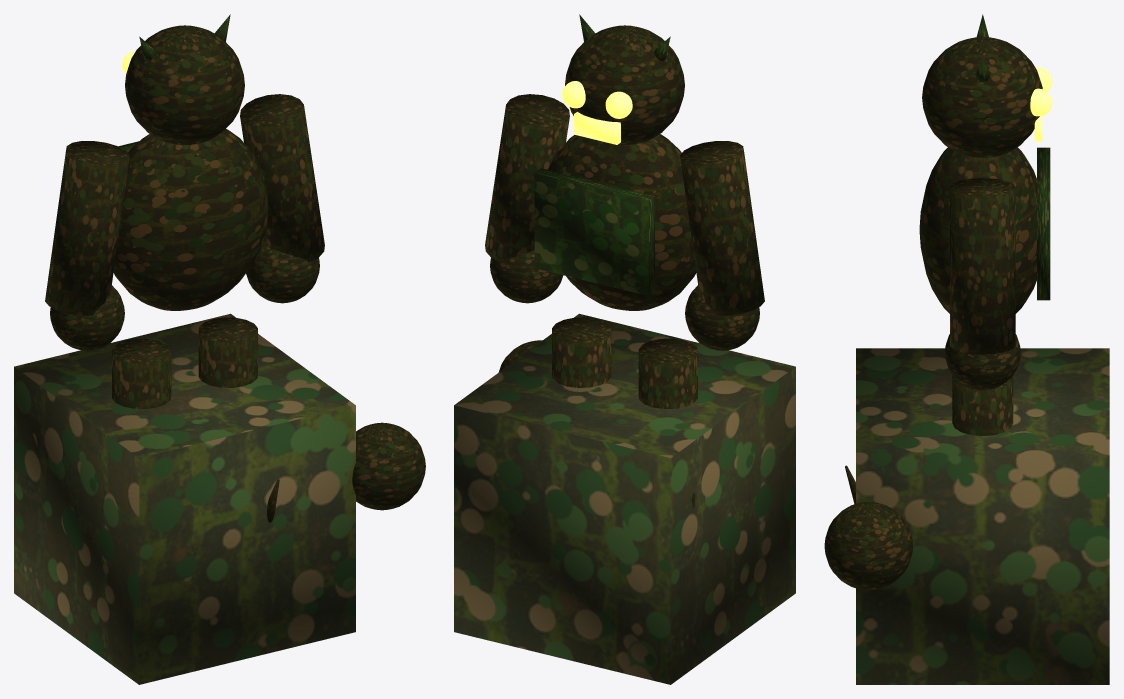
File: humbaba.glb
The picture shows the model from 3 angles, left to right: view 1: azimuth 30°, elevation 25°; view 2: azimuth 150°, elevation 25°; view 3: azimuth 270°, elevation 25°; orthographic projection.
Parts seen in each view (by area): view 1: Cube, Torso, Head, TrunkArmL, TrunkArmR, Boulder, TrunkLegR, TrunkLegL, FistBoulderR, FistBoulderL; view 2: Cube, ChestBark, Torso, TrunkArmL, Head, TrunkArmR, TrunkLegR, TrunkLegL, FistBoulderL, FistBoulderR, RoarMouth, TerrorEye (+1 smaller); view 3: Cube, TrunkArmR, Head, Torso, Boulder, TrunkLegR, FistBoulderR, ChestBark, TerrorEye.001.
Part boxes in pixels (box(x1,y1,x2,y2)): Cube: box(14, 313, 355, 684); Torso: box(113, 129, 268, 310); Head: box(125, 25, 244, 144); TrunkArmL: box(45, 141, 129, 315); TrunkArmR: box(240, 94, 324, 262); Boulder: box(352, 422, 425, 510); TrunkLegR: box(198, 317, 257, 387); TrunkLegL: box(112, 338, 171, 408); FistBoulderR: box(246, 244, 319, 303); FistBoulderL: box(50, 285, 124, 350); Cube: box(454, 313, 795, 684); ChestBark: box(534, 168, 654, 295); Torso: box(548, 134, 696, 310); TrunkArmL: box(680, 141, 764, 315); Head: box(565, 25, 684, 144); TrunkArmR: box(485, 94, 569, 262); TrunkLegR: box(552, 317, 611, 387); TrunkLegL: box(638, 338, 697, 408); FistBoulderL: box(685, 285, 759, 350); FistBoulderR: box(490, 250, 563, 303); RoarMouth: box(574, 112, 620, 144); TerrorEye: box(605, 91, 632, 118); Cube: box(856, 348, 1109, 684); TrunkArmR: box(950, 178, 1015, 354); Head: box(922, 37, 1042, 157); Torso: box(919, 147, 1036, 313); Boulder: box(824, 501, 912, 590); TrunkLegR: box(952, 376, 1013, 435); FistBoulderR: box(945, 334, 1020, 390); ChestBark: box(1037, 147, 1050, 300); TerrorEye.001: box(1030, 88, 1052, 116).
Bounding box in the file's own units: 2.23 × 3.97 × 1.72.
5 materials, 4 textured.
